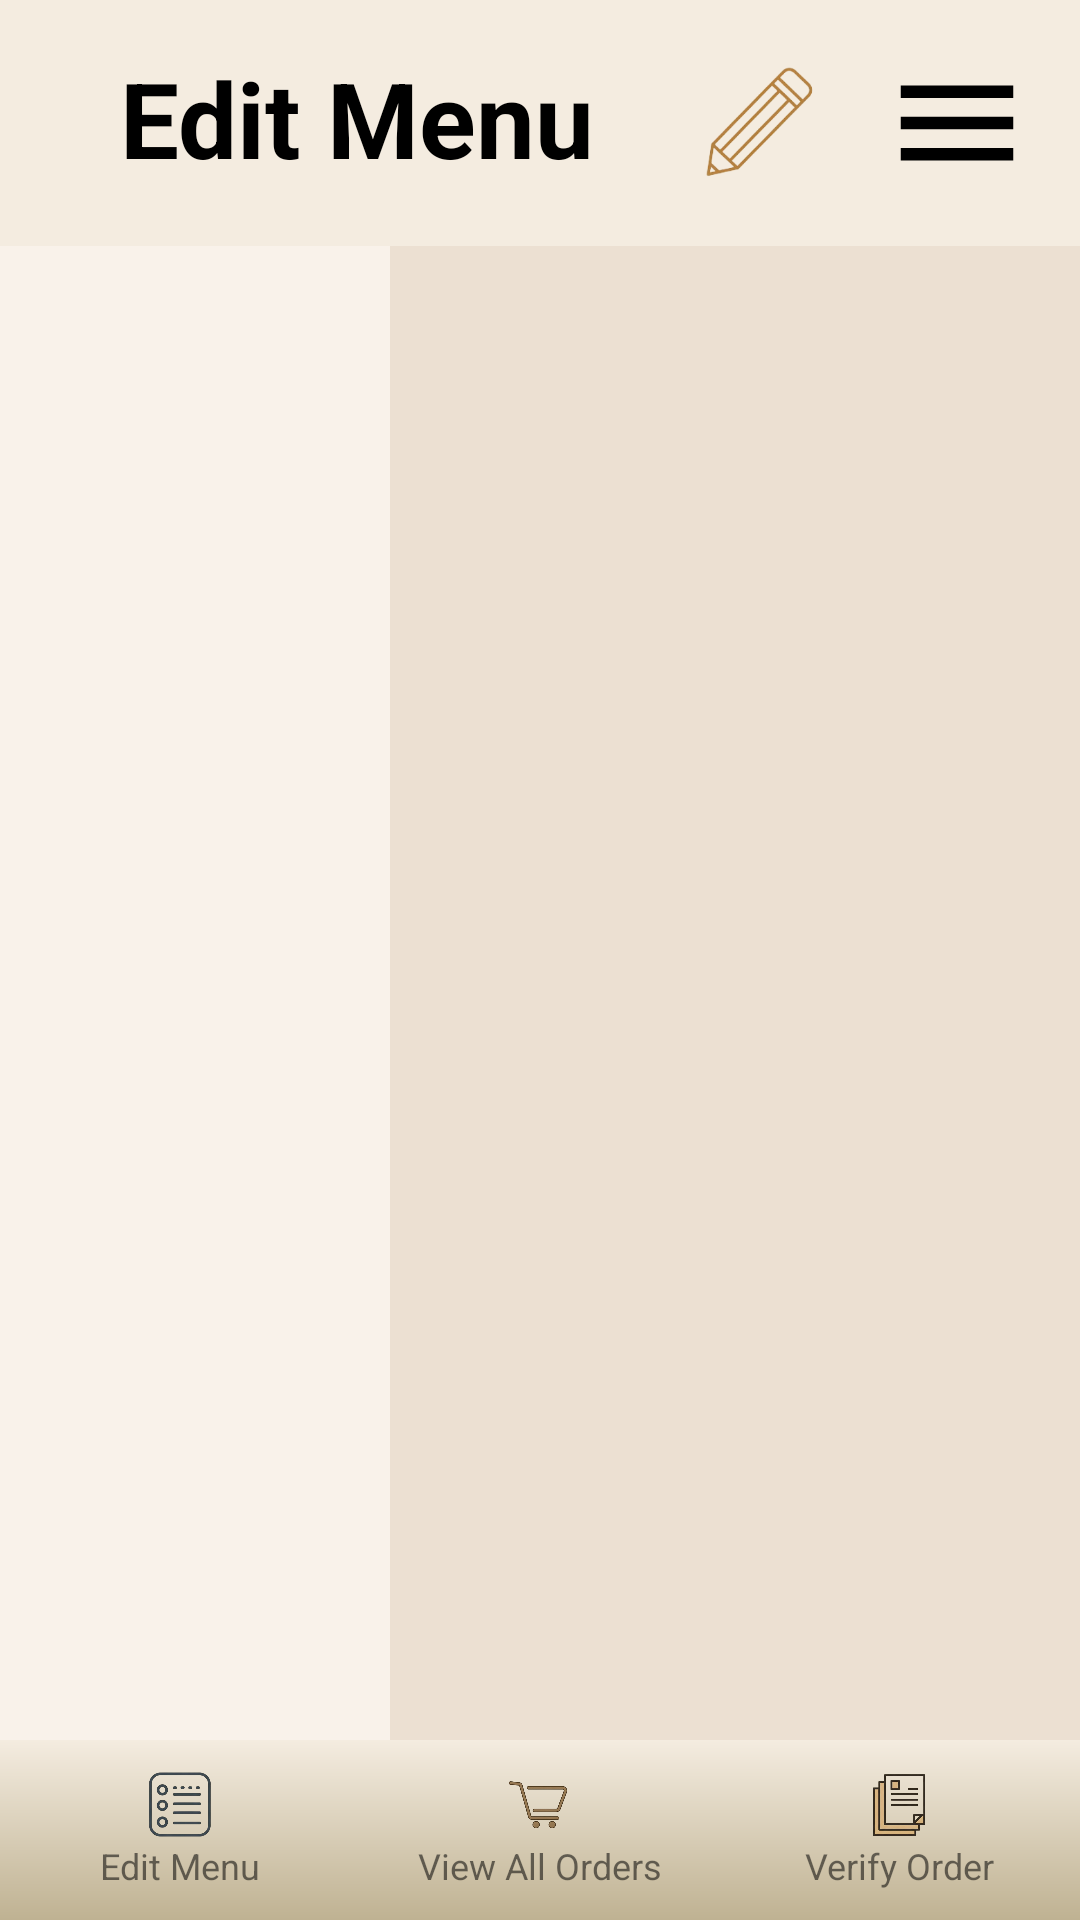

Locate icon controls on the screen. Image size 1080px x 1920px, boxes as {"x1": x1, "y1": y1, "x2": x2, "y2": y2}.
cart: {"x1": 504, "y1": 1781, "x2": 576, "y2": 1841}
